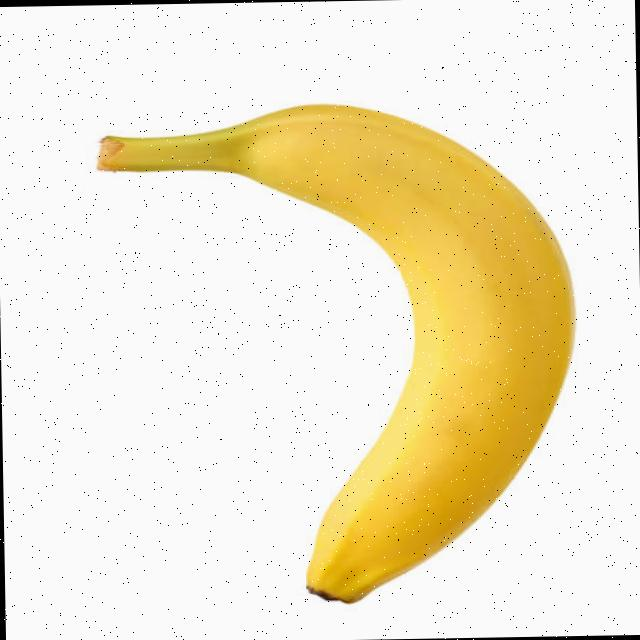Ripe: (95, 96, 586, 610)
